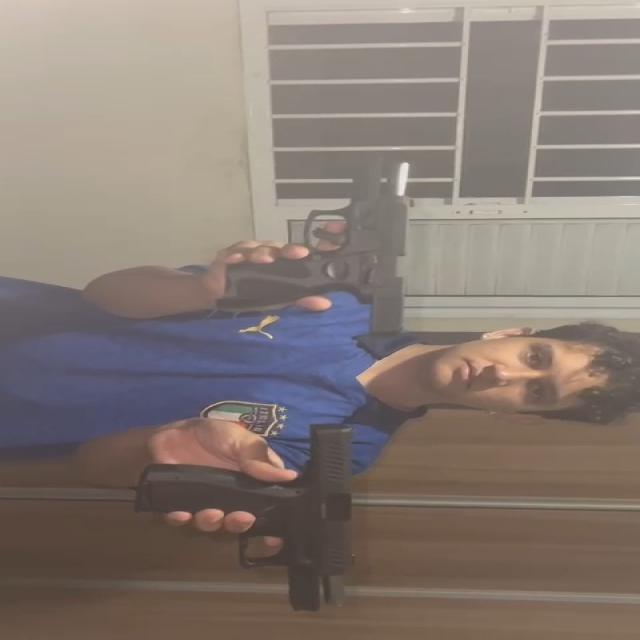gun: (132, 422, 356, 618), (217, 162, 410, 337)
